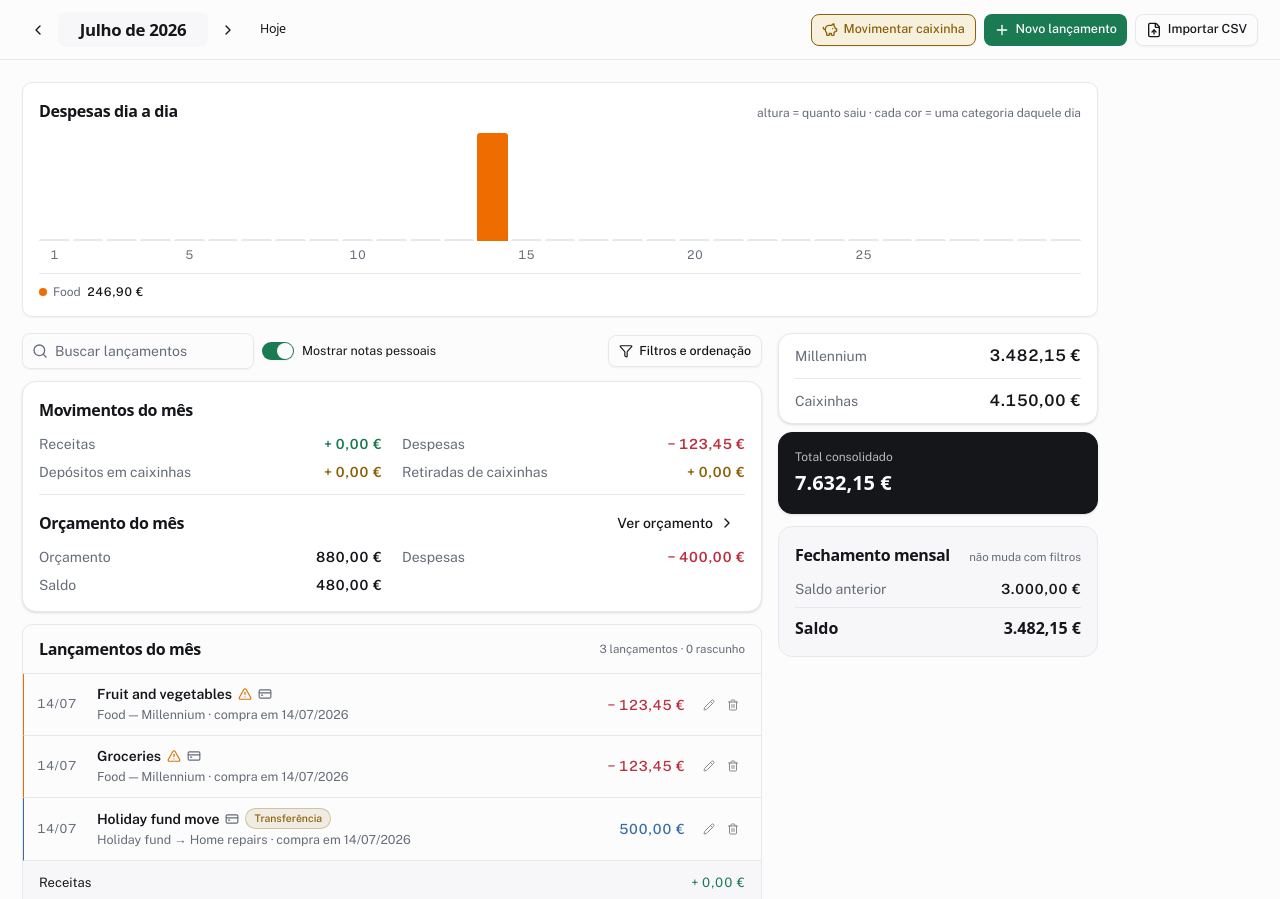
Test: MonthPage › shows personal notes by default, falls back to descriptions, and keeps cashbox descriptions
The width and height of the screenshot is (1280, 899).
Expected: the text "Groceries" is shown, [97,746,161,766]
Expected: the text "Holiday fund move" is shown, [97,809,220,829]
Click the switch named "Mostrar notas pessoais".
click(278, 351)  # box [262,342,294,360]
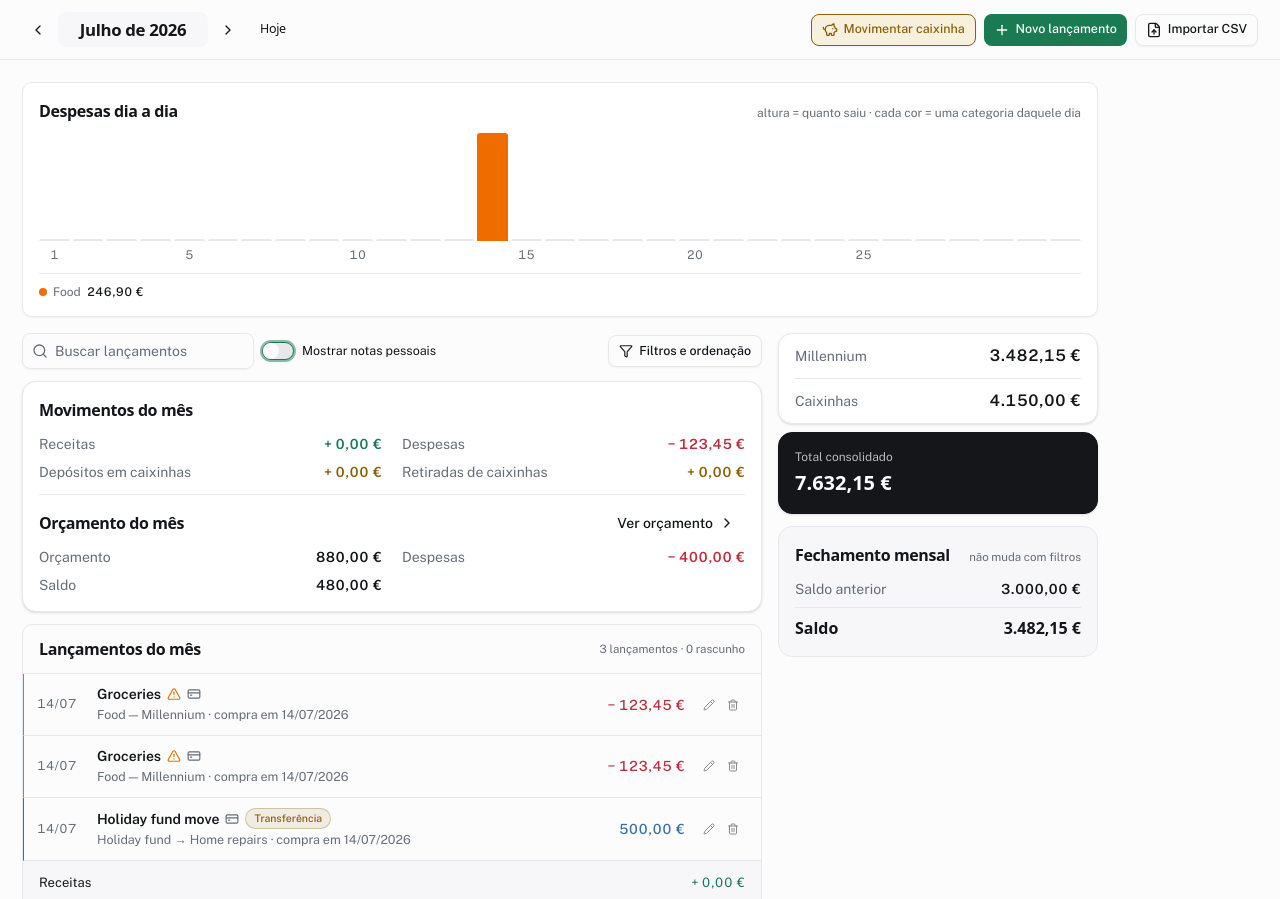
Expected: the text "Holiday fund move" is shown, [97,809,220,829]
Now the text "Fruit and vegetables" is gone
